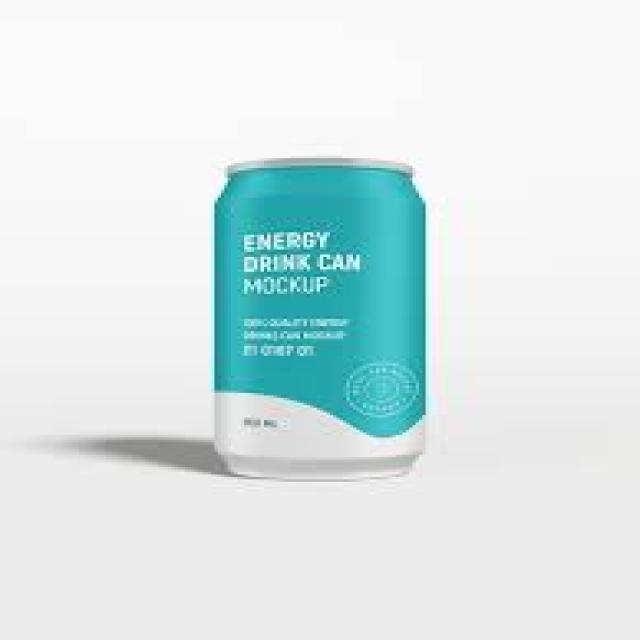Cans: (194, 148, 448, 484)
